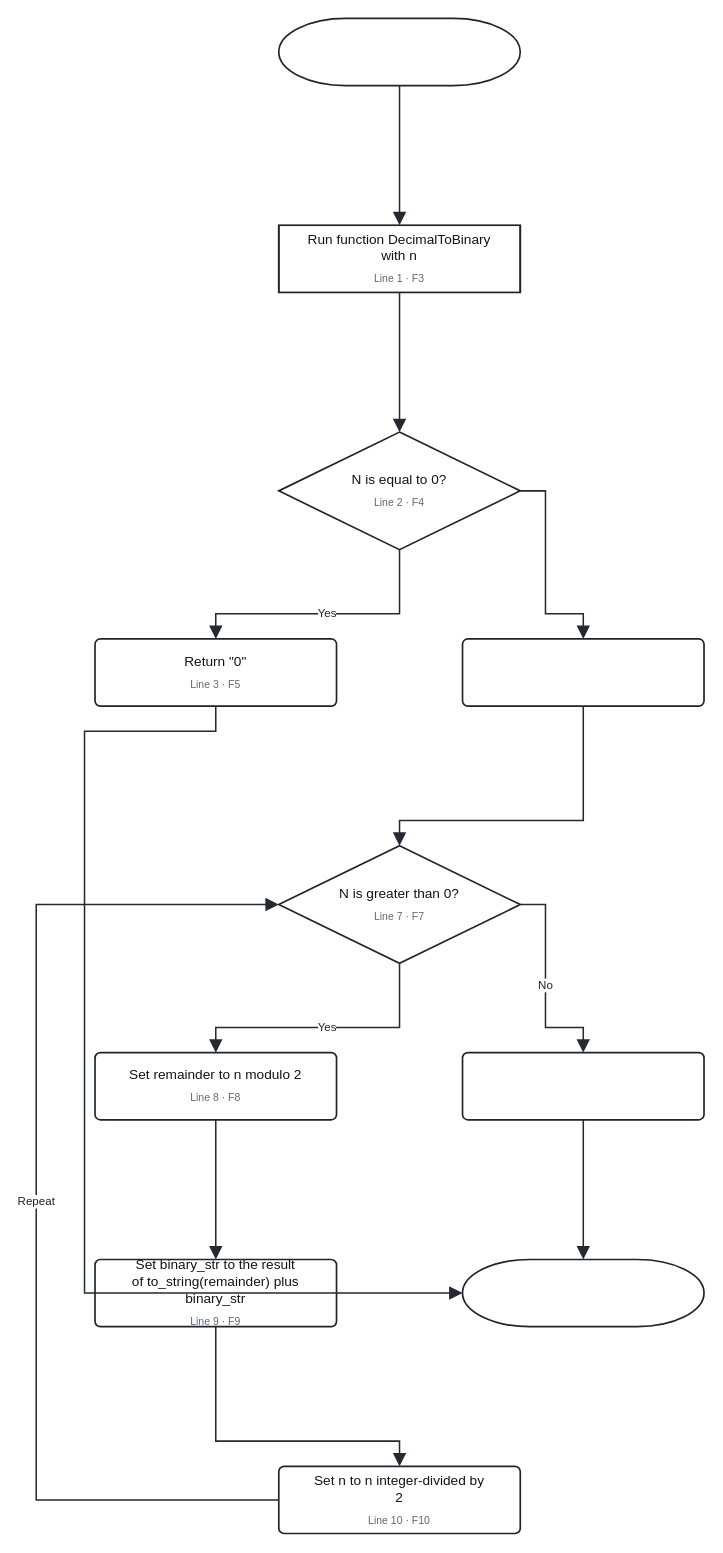
Image size: 723x1553. Some labels were removed from this diagram. The shapes that lost their labels are listed below. From the top down, each one's centre as x and y in pixels, then its label:
At pixel 399 51: "Start Line 1 · F1".
At pixel 582 672: "Set binary_str to an empty string Line 6 · F6".
At pixel 582 1085: "Return binary_str Line 13 · F11".
At pixel 582 1292: "End Line 1 · F2".
